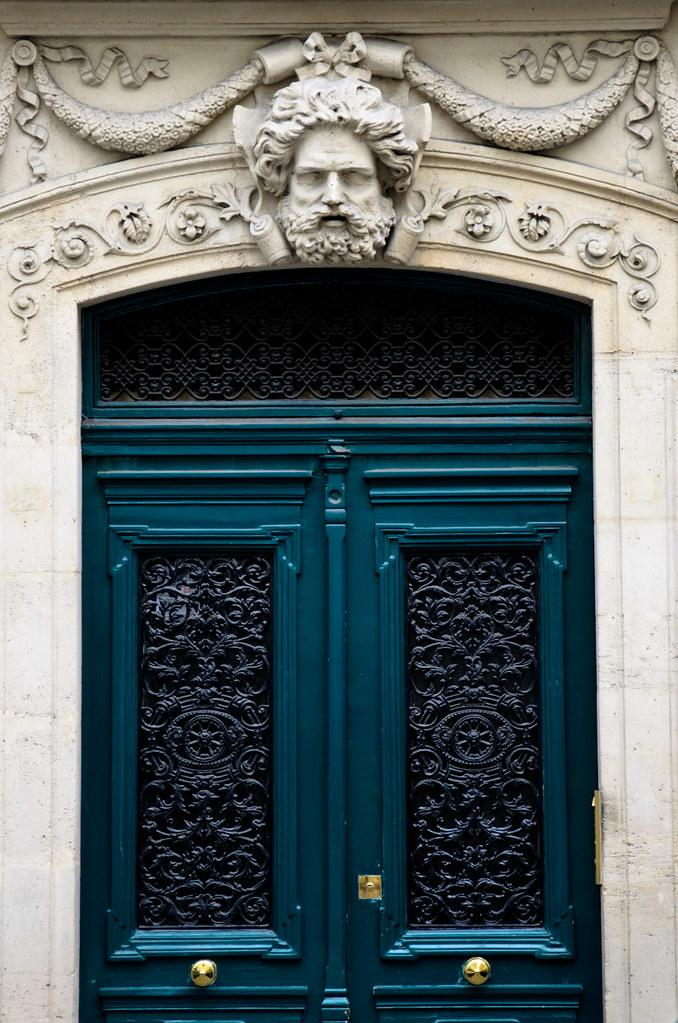door: (78, 269, 603, 1021)
